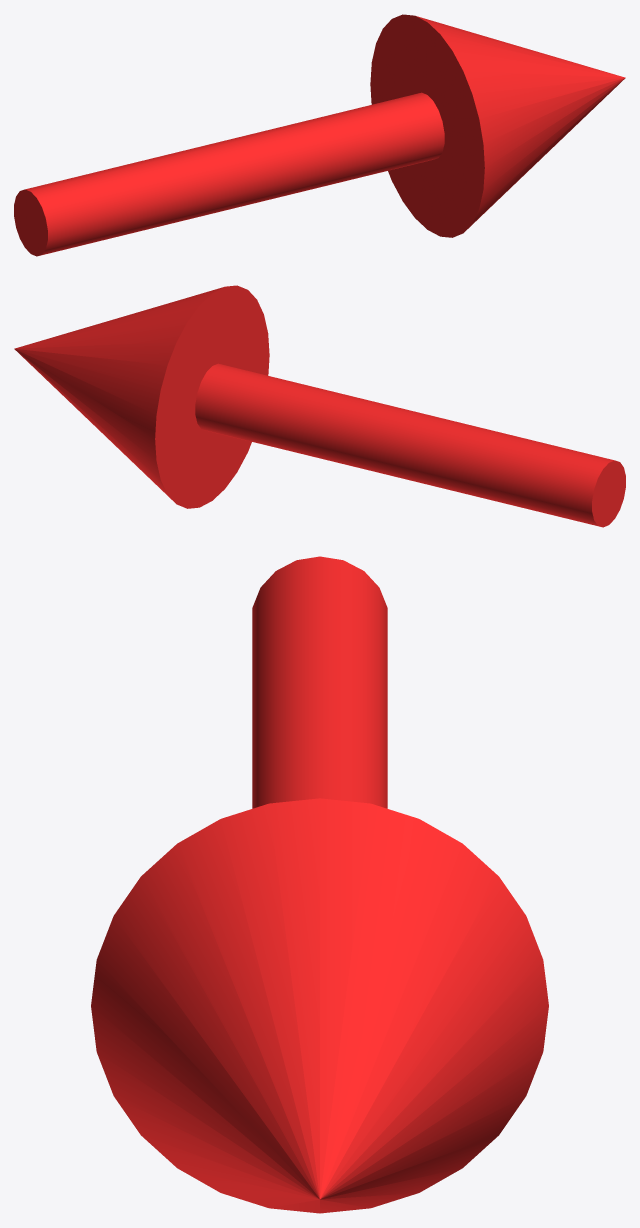
Rendered from Translate_X.fbx.
3 renders of one model, top to bottom at view 1: azimuth 30°, elevation 25°; view 2: azimuth 150°, elevation 25°; view 3: azimuth 270°, elevation 25°, orthographic. The views are drawn at different scales.
Visible parts, largest first — view 1: X_Axis; view 2: X_Axis; view 3: X_Axis.
Part boxes in pixels (x1,y1,x2,y2): X_Axis: [14, 14, 625, 256]; X_Axis: [14, 285, 625, 527]; X_Axis: [91, 556, 548, 1213].
Bounding box in the file's own units: 60 × 20 × 20.
